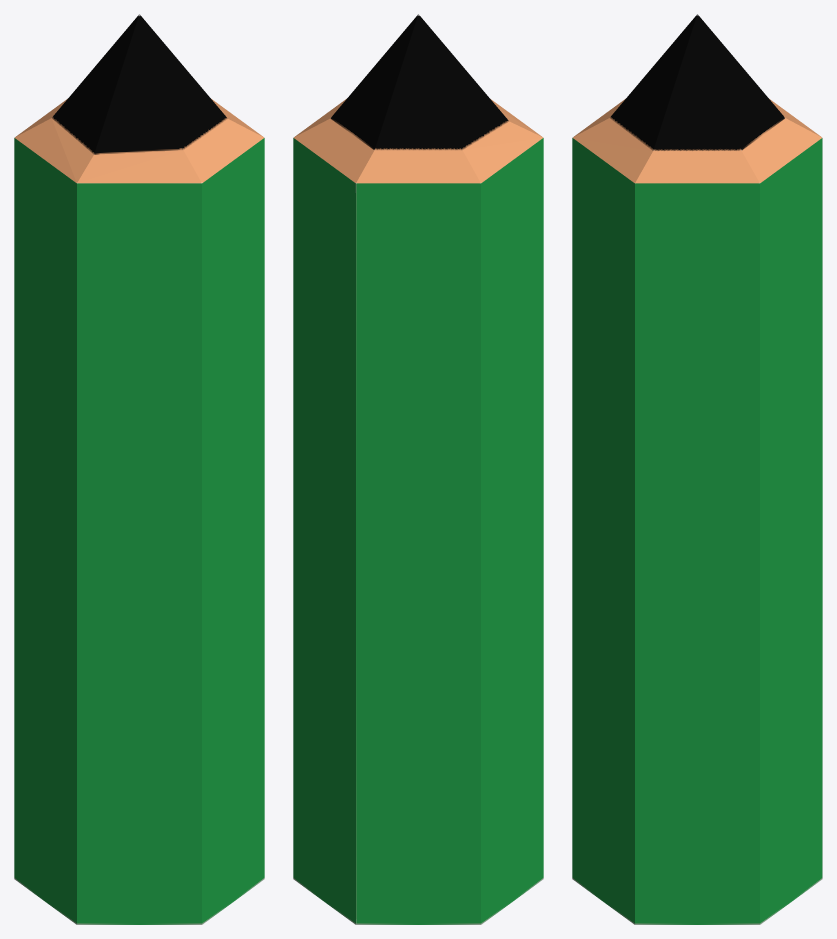
The model's file is SpeedNBullet.obj.
The picture shows the model from 3 angles, left to right: view 1: azimuth 30°, elevation 25°; view 2: azimuth 150°, elevation 25°; view 3: azimuth 270°, elevation 25°; orthographic projection.
Parts seen in each view (by area): view 1: 円柱; view 2: 円柱; view 3: 円柱.
Part boxes in pixels (x1,y1,x2,y2): 円柱: [14, 14, 264, 924]; 円柱: [293, 14, 543, 924]; 円柱: [572, 14, 822, 924].
Size of the model in its own units: 0.3464 by 1.53 by 0.4.
1 material, 1 textured.
